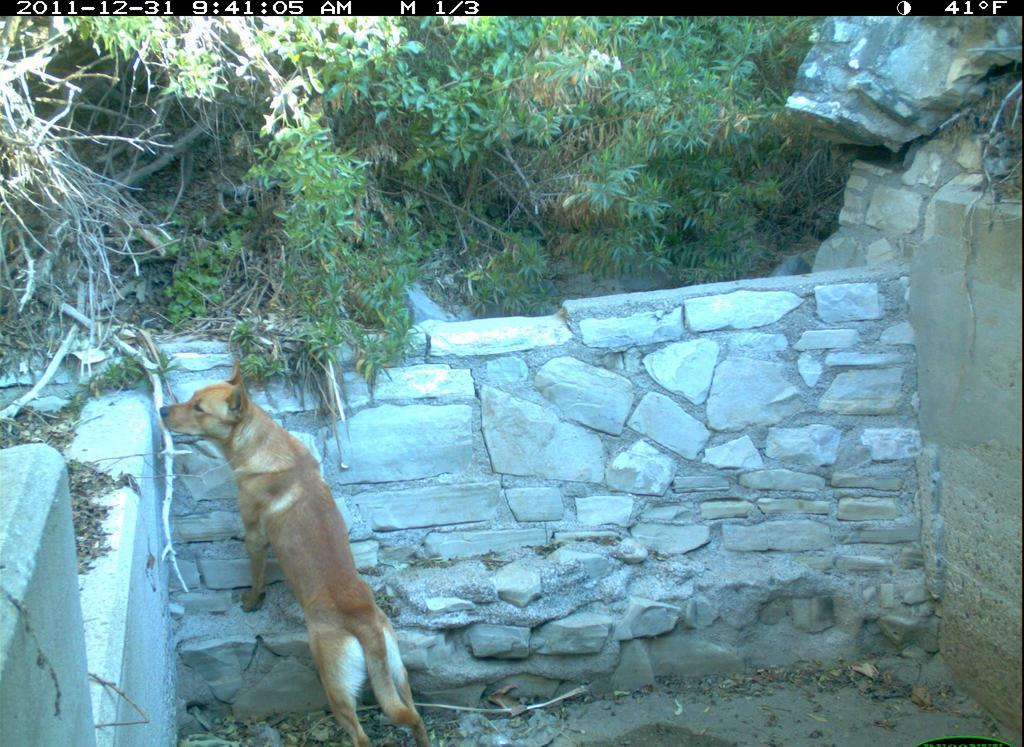dog: (152, 356, 429, 745)
